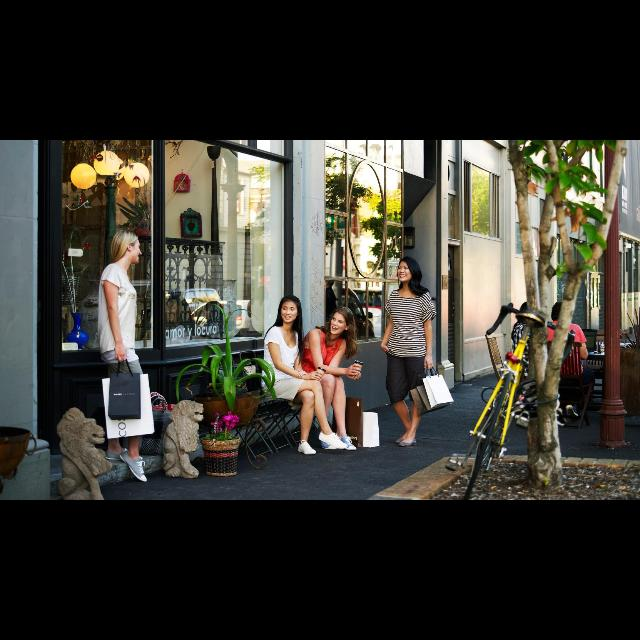head: (113, 229, 143, 265), (331, 307, 354, 335), (281, 296, 301, 324), (397, 257, 418, 283)
person: (95, 228, 155, 486), (379, 255, 456, 449), (258, 294, 349, 456), (292, 305, 364, 453)
